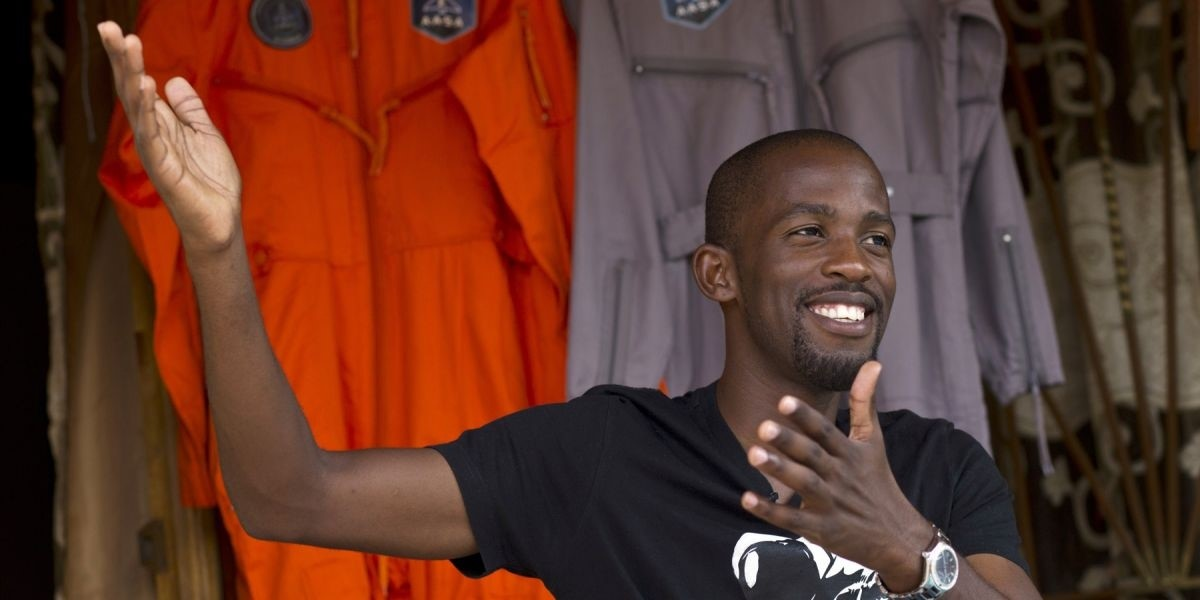face_no_mask: (697, 126, 902, 386)
